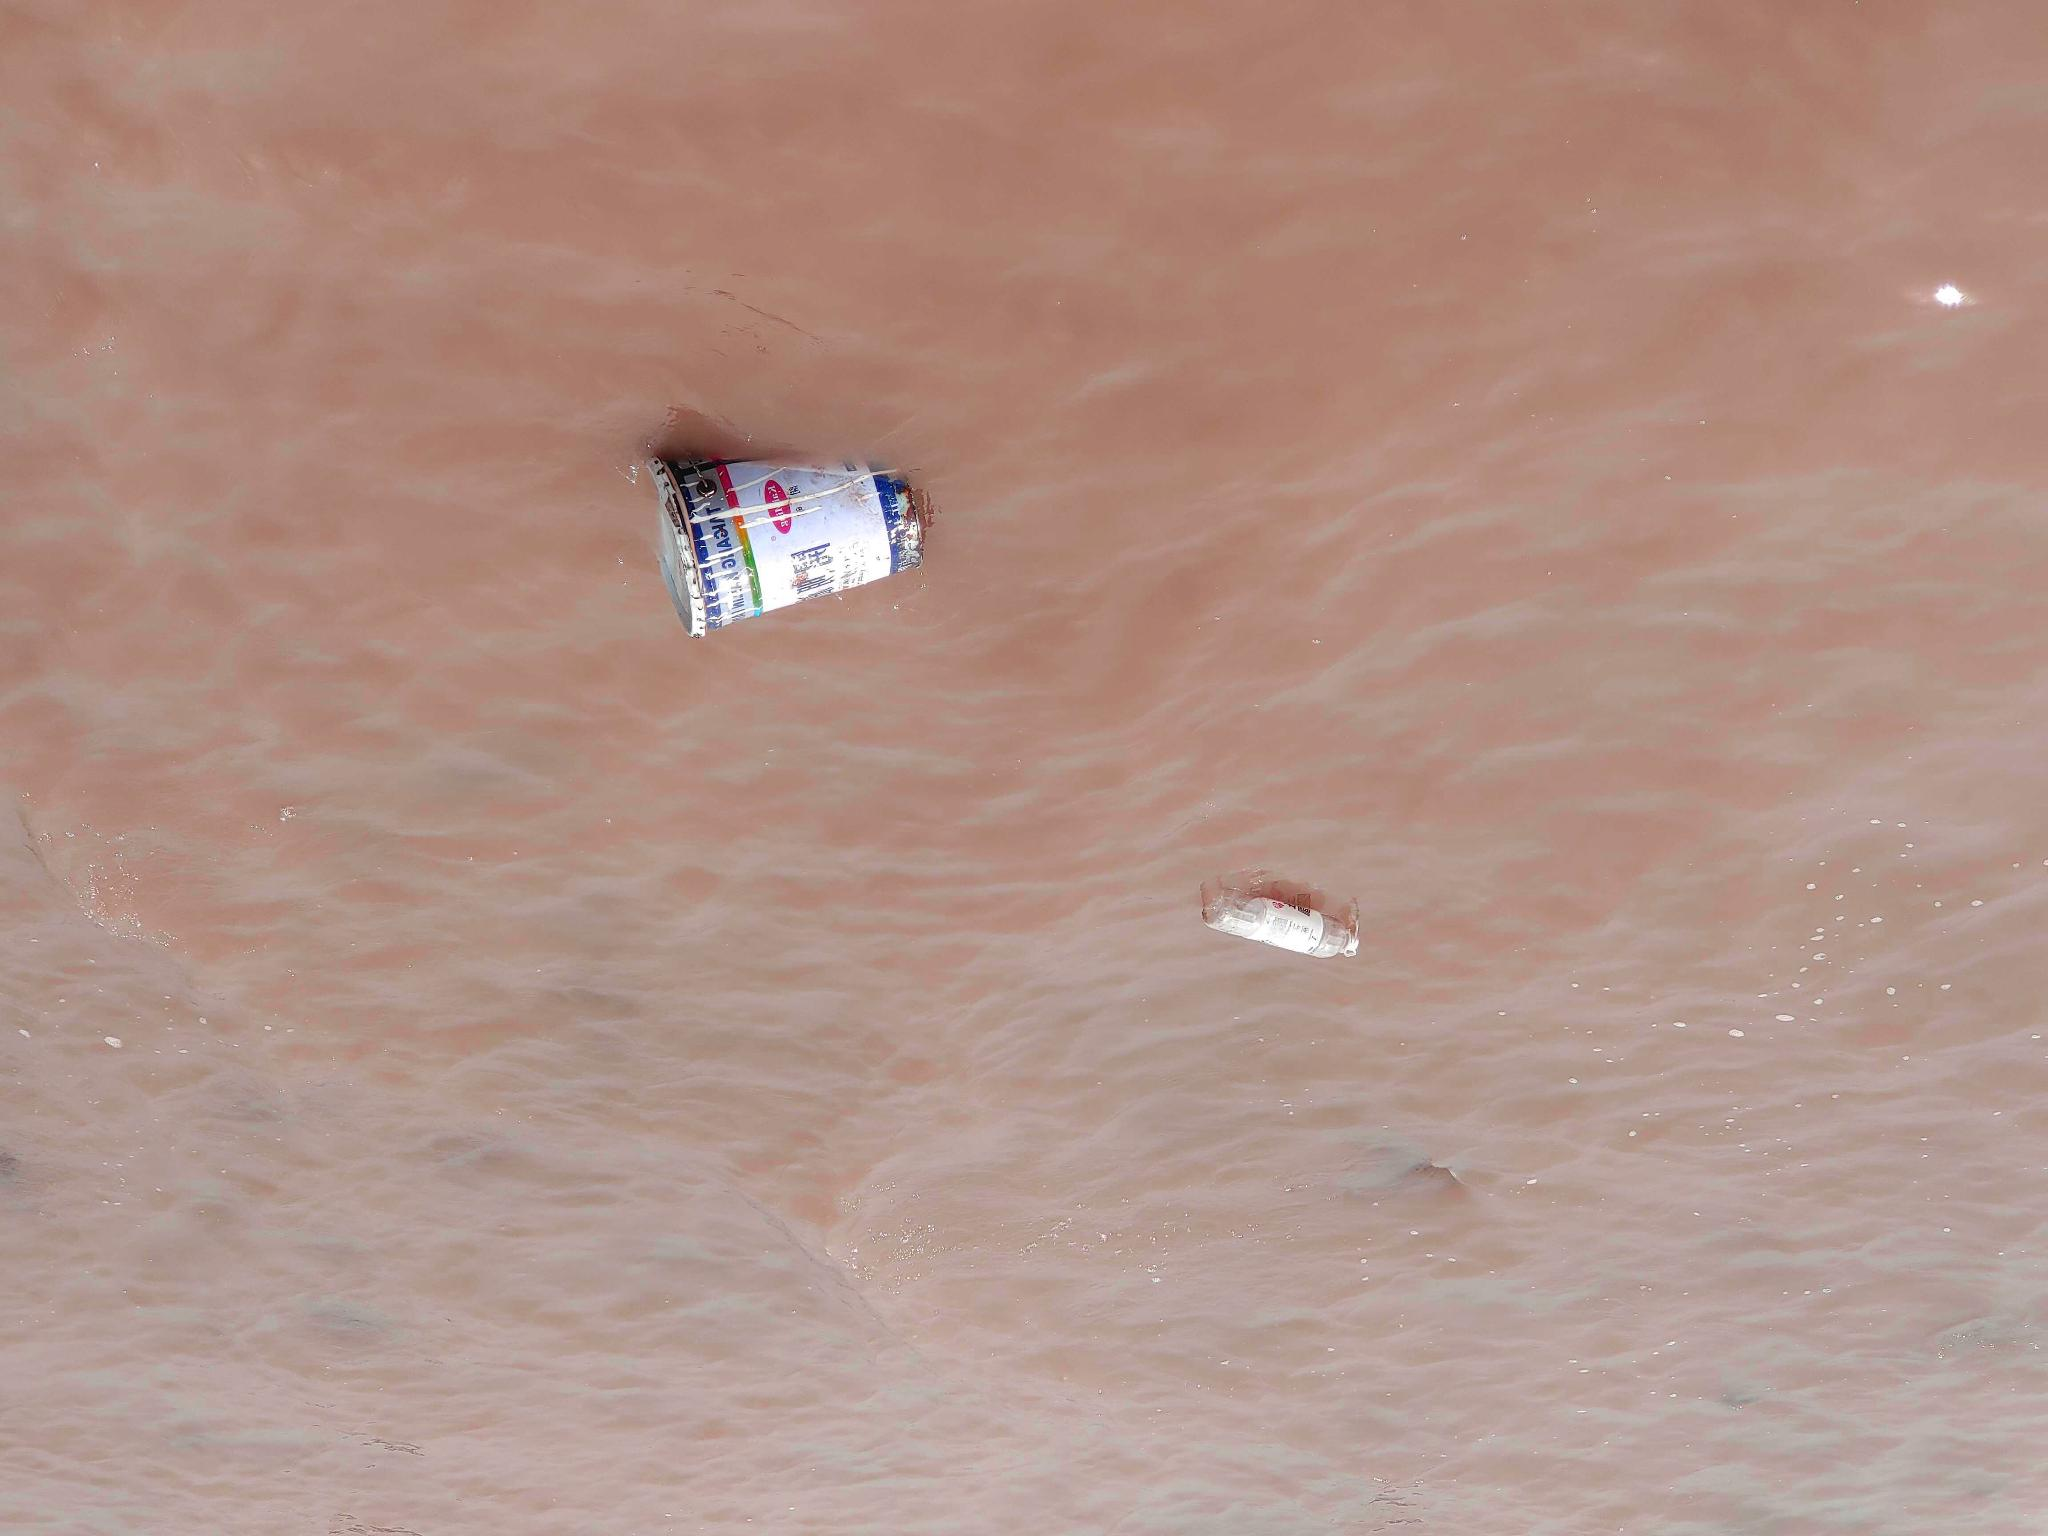Plastic: (1197, 886, 1364, 970)
